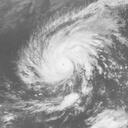cyclone: (15, 6, 113, 87)
